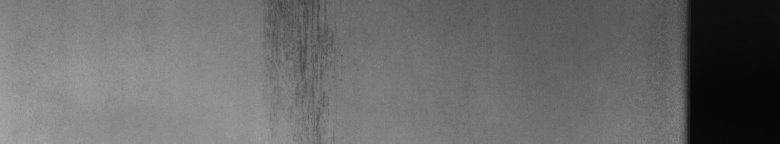ka: (268, 4, 336, 136)
